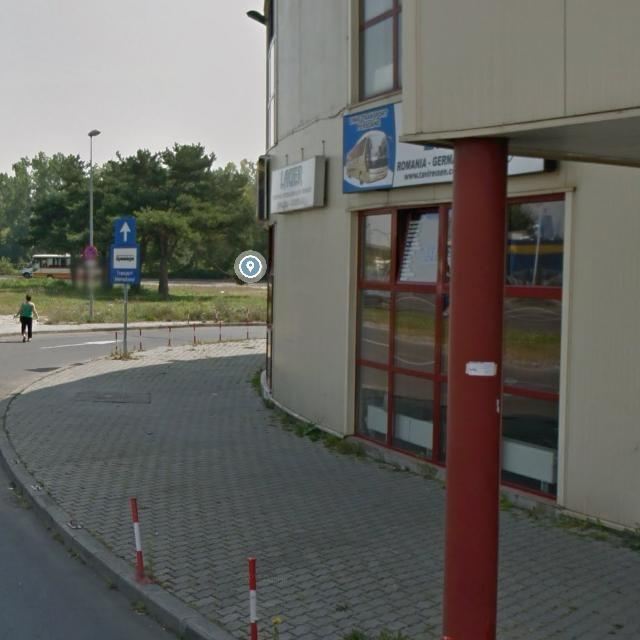forb_waiting: (83, 246, 98, 262)
